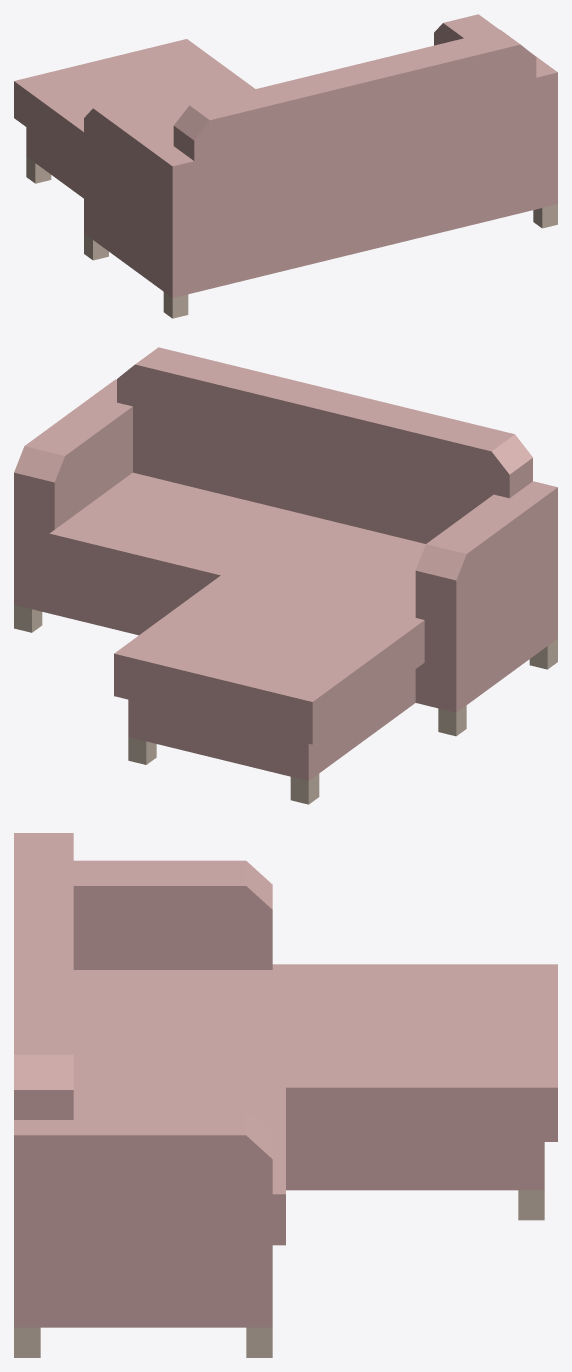
Rendered from furn_loungeSofaLong.glb.
3 views of the same model, one above another, from view 1: azimuth 30°, elevation 25°; view 2: azimuth 150°, elevation 25°; view 3: azimuth 270°, elevation 25° (orthographic). The views are drawn at different scales.
Size of the model in its own units: 1.96 by 0.92 by 1.64.
